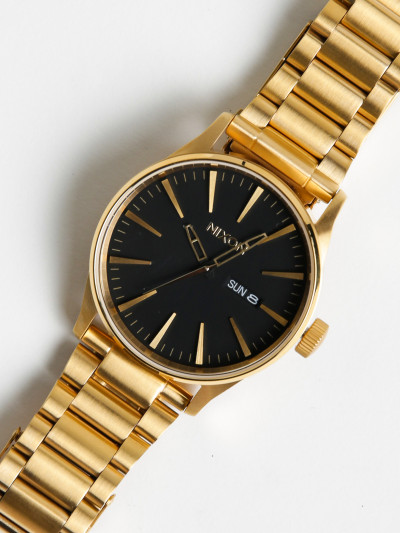clock: (87, 152, 327, 384)
